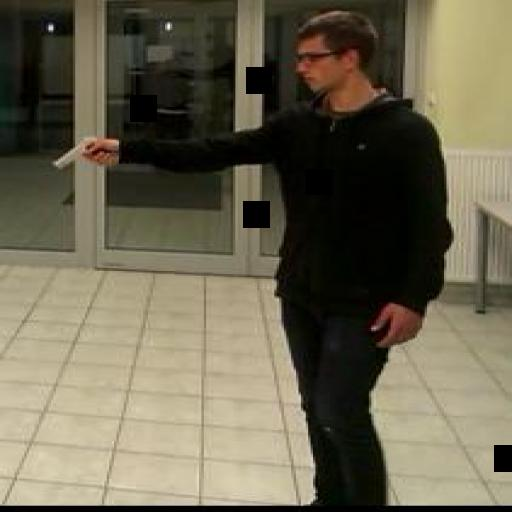Handgun: (48, 132, 112, 168)
